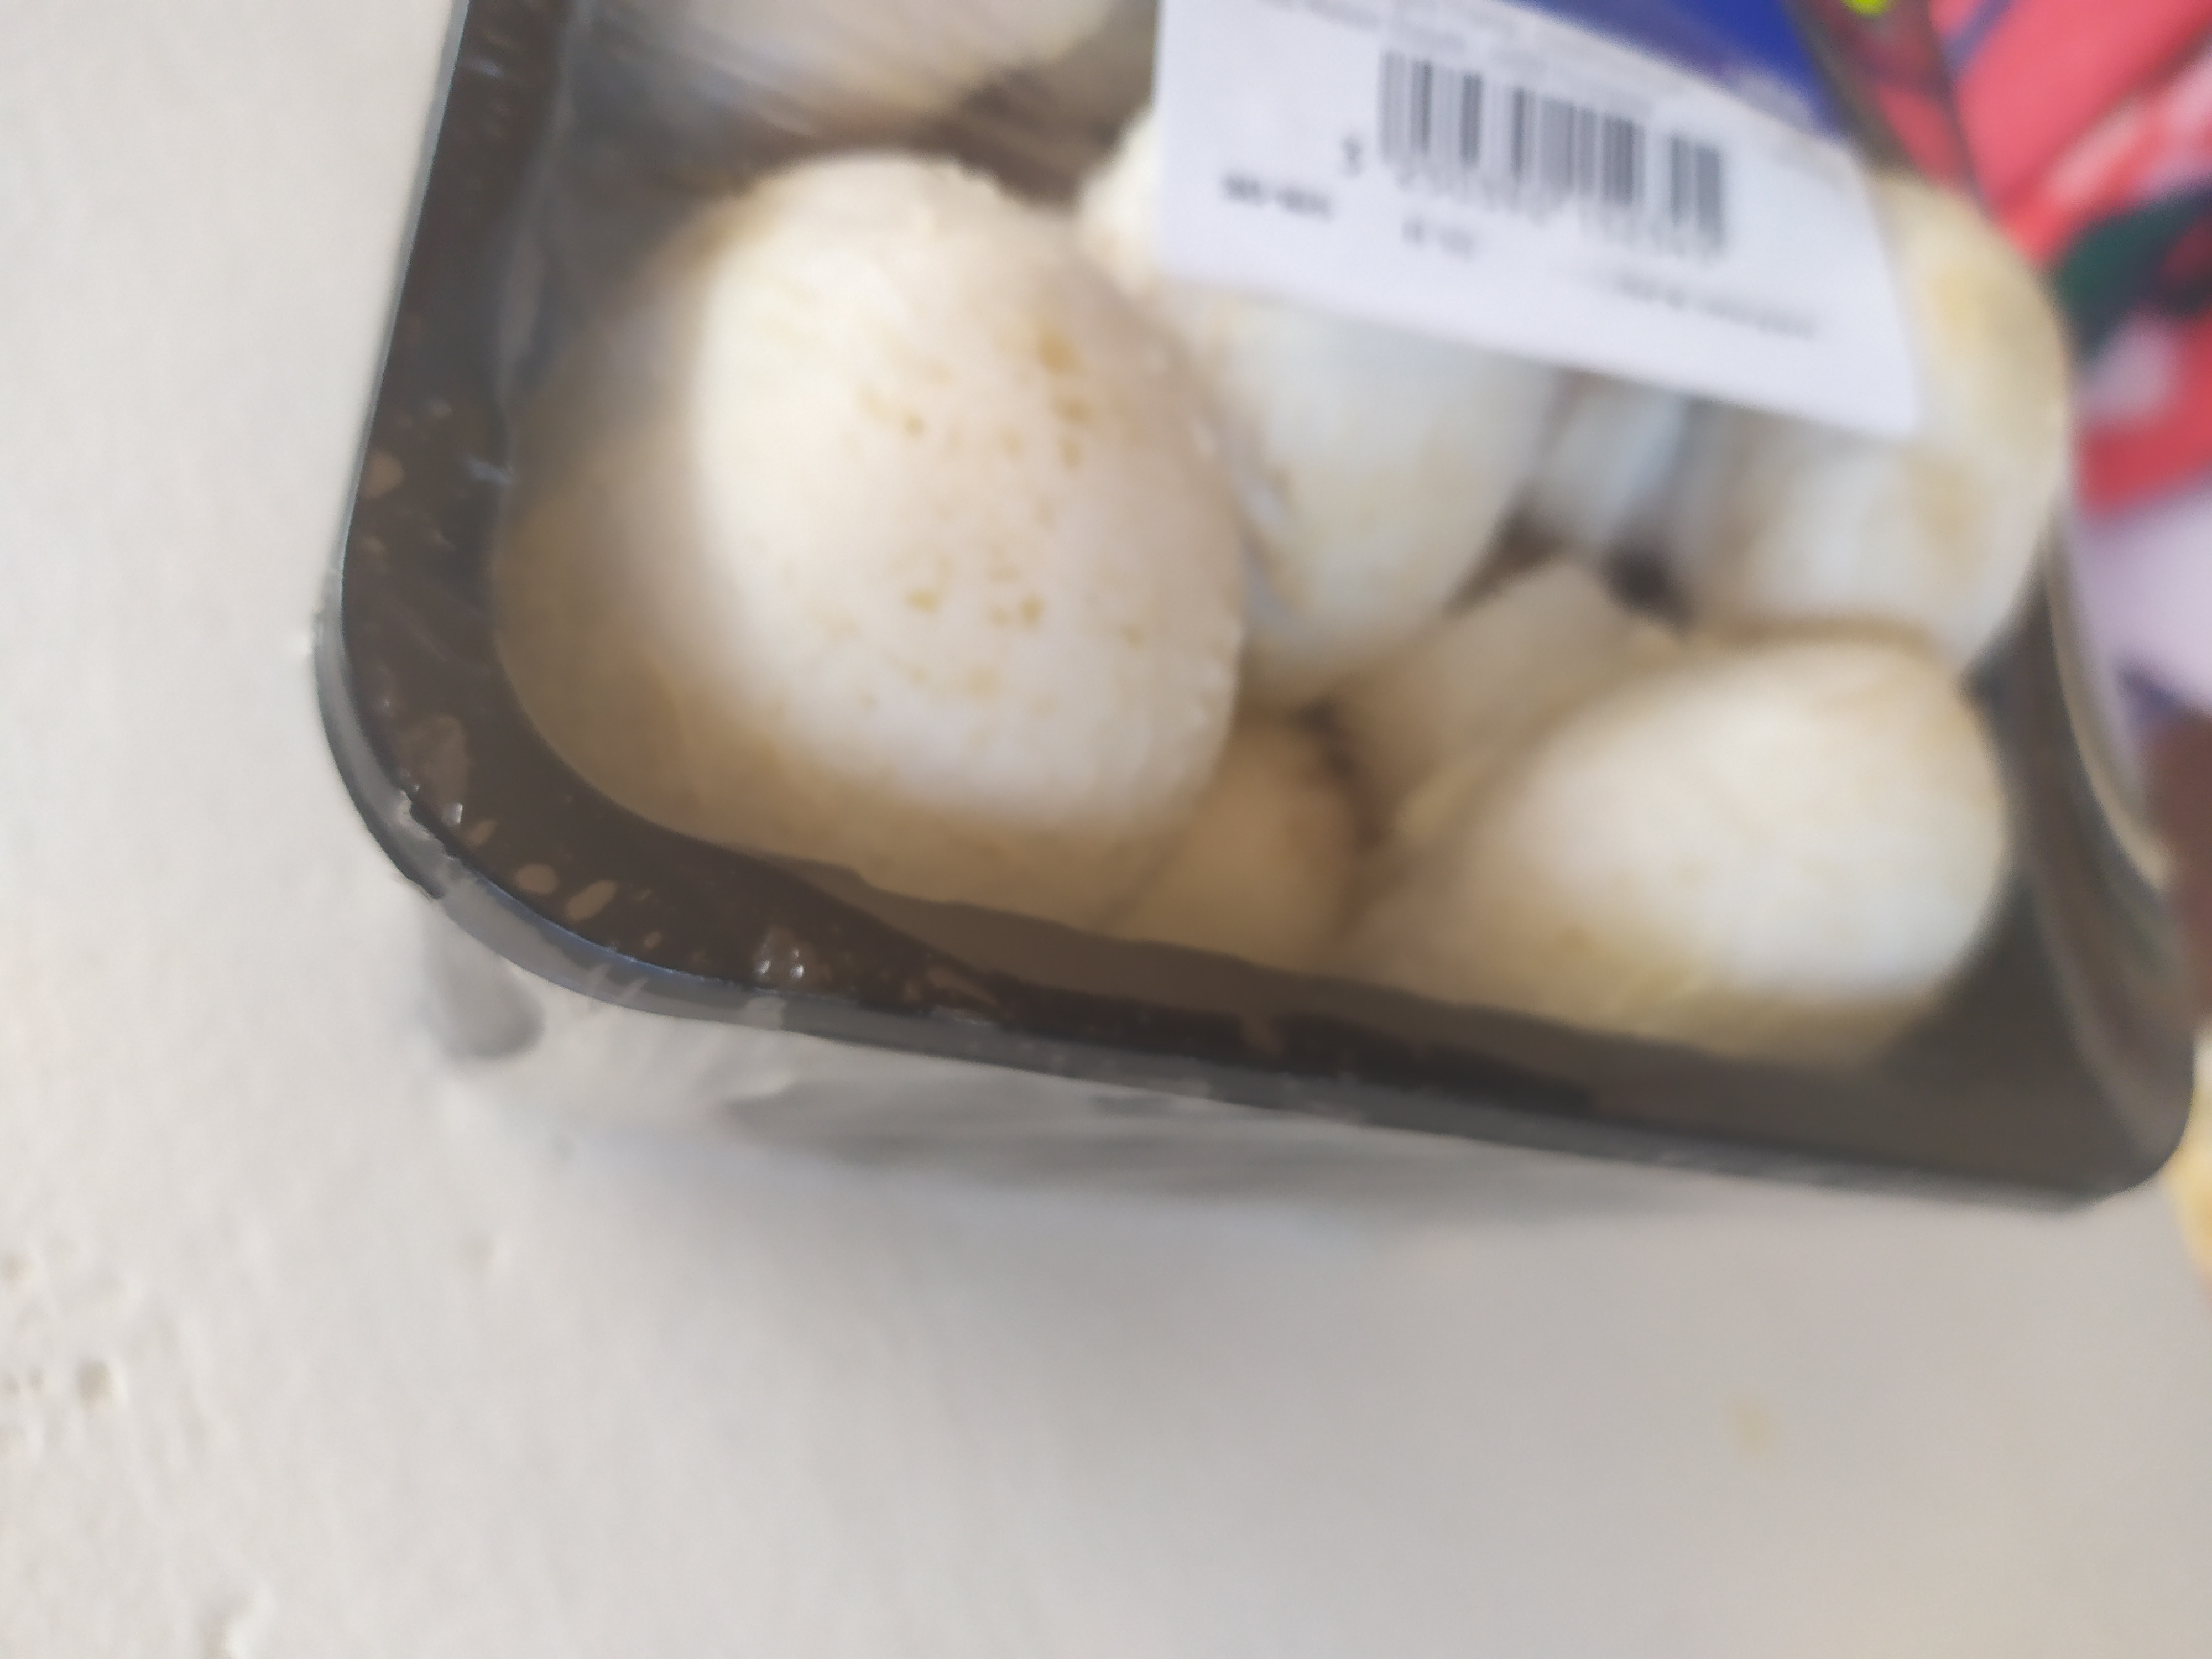mushroom: (326, 21, 2200, 1227)
